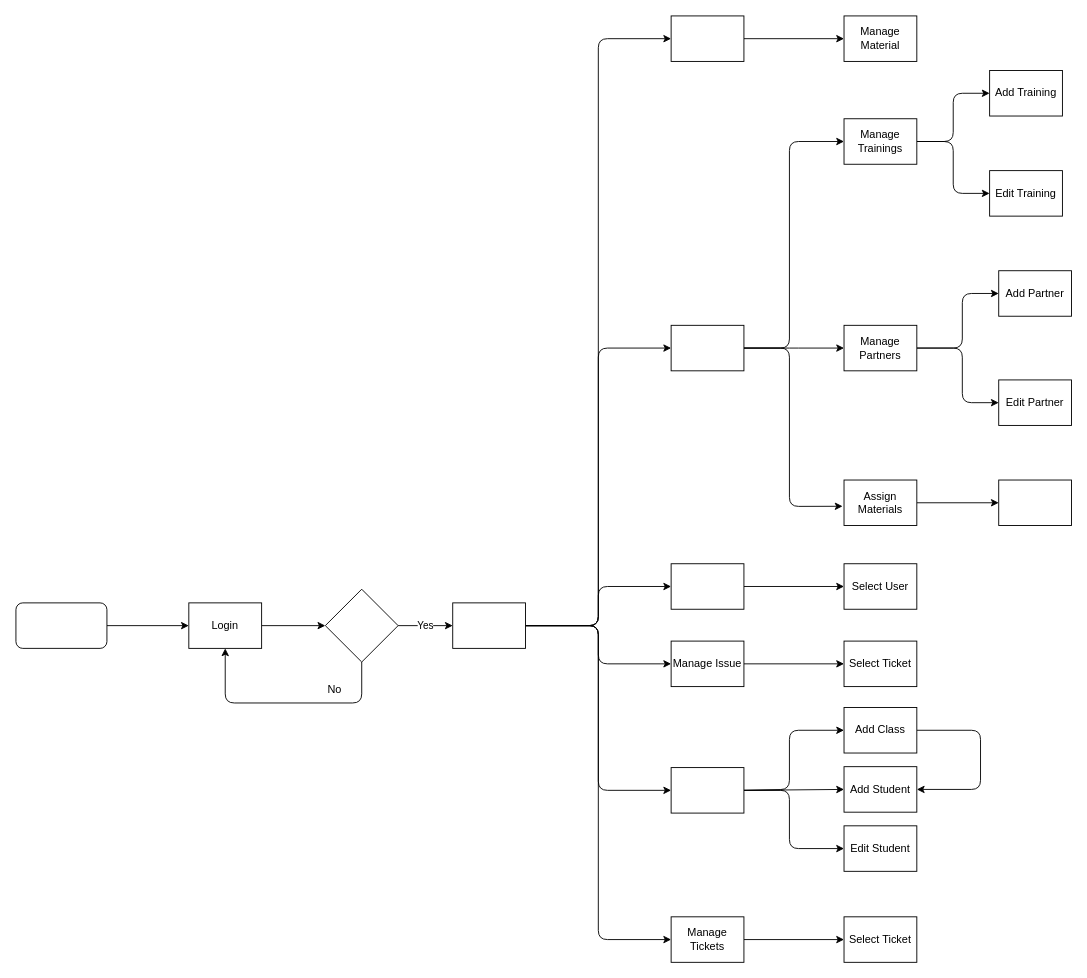
Image size: 1087x978. Some labels were removed from this diagram. Each missing label, with the centre of its shape:
Check Stock: (707,38)
Correct data?: (361,625)
Manage Clothing: (707,586)
Manage External Trainings: (707,347)
Manage Students: (707,790)
Select Training: (1035,502)
Show Menu: (489,625)
Start: (61,625)
